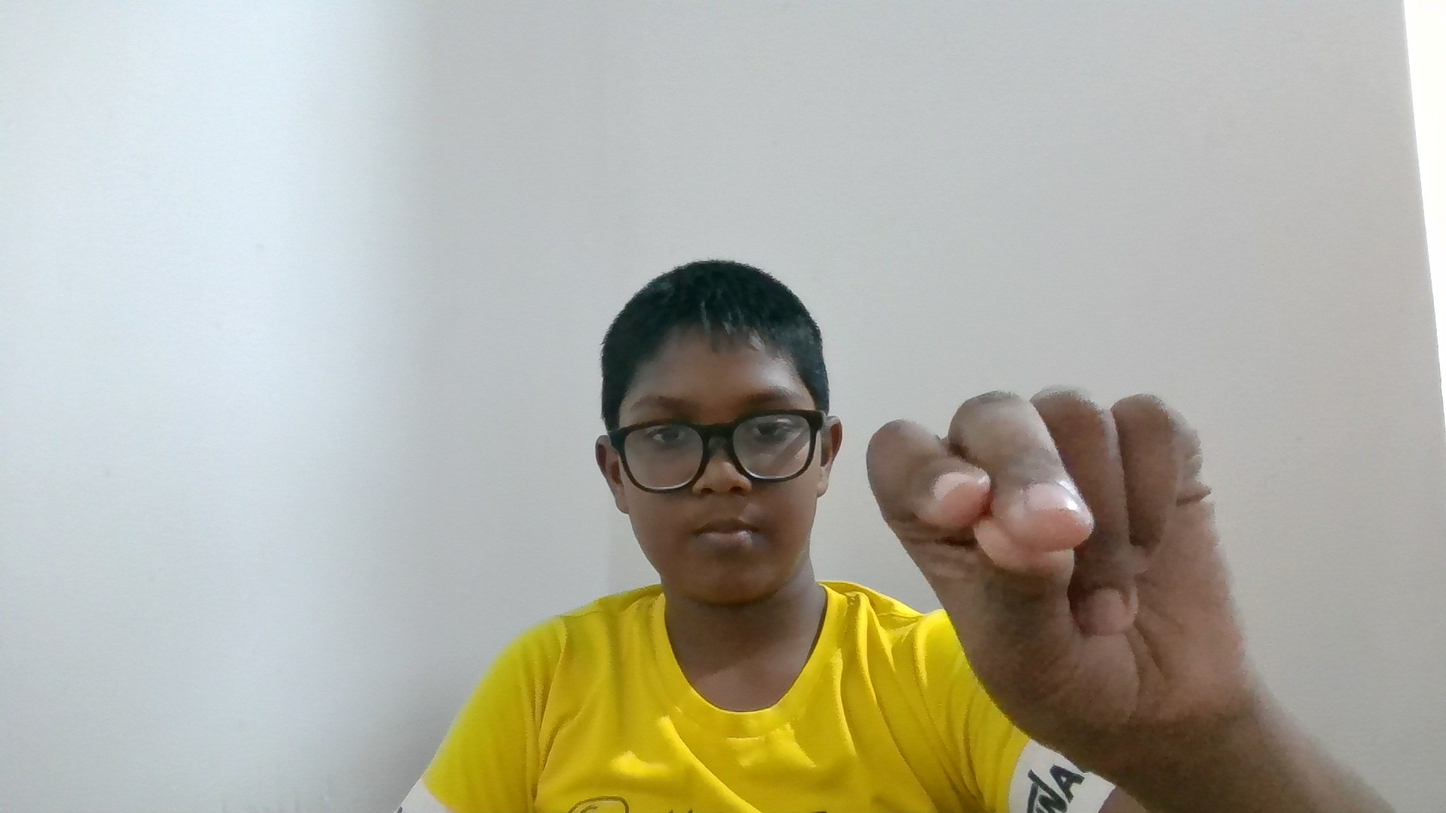No: (815, 326, 1335, 772)
